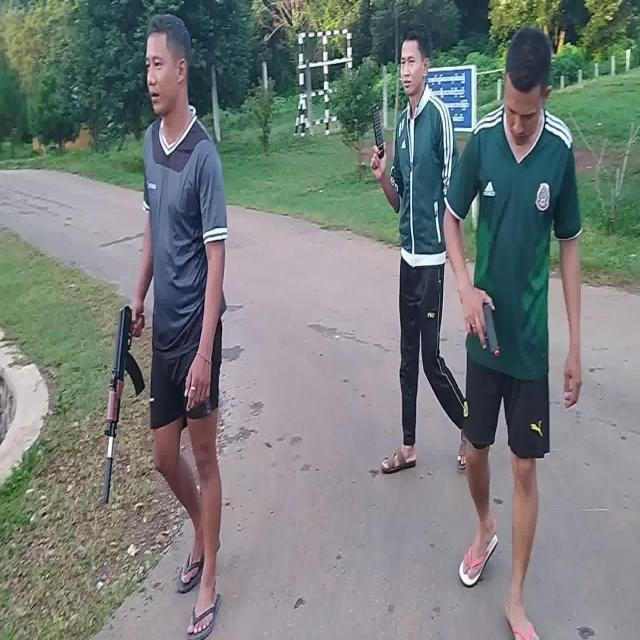gun: (103, 305, 145, 503), (483, 302, 500, 356)
